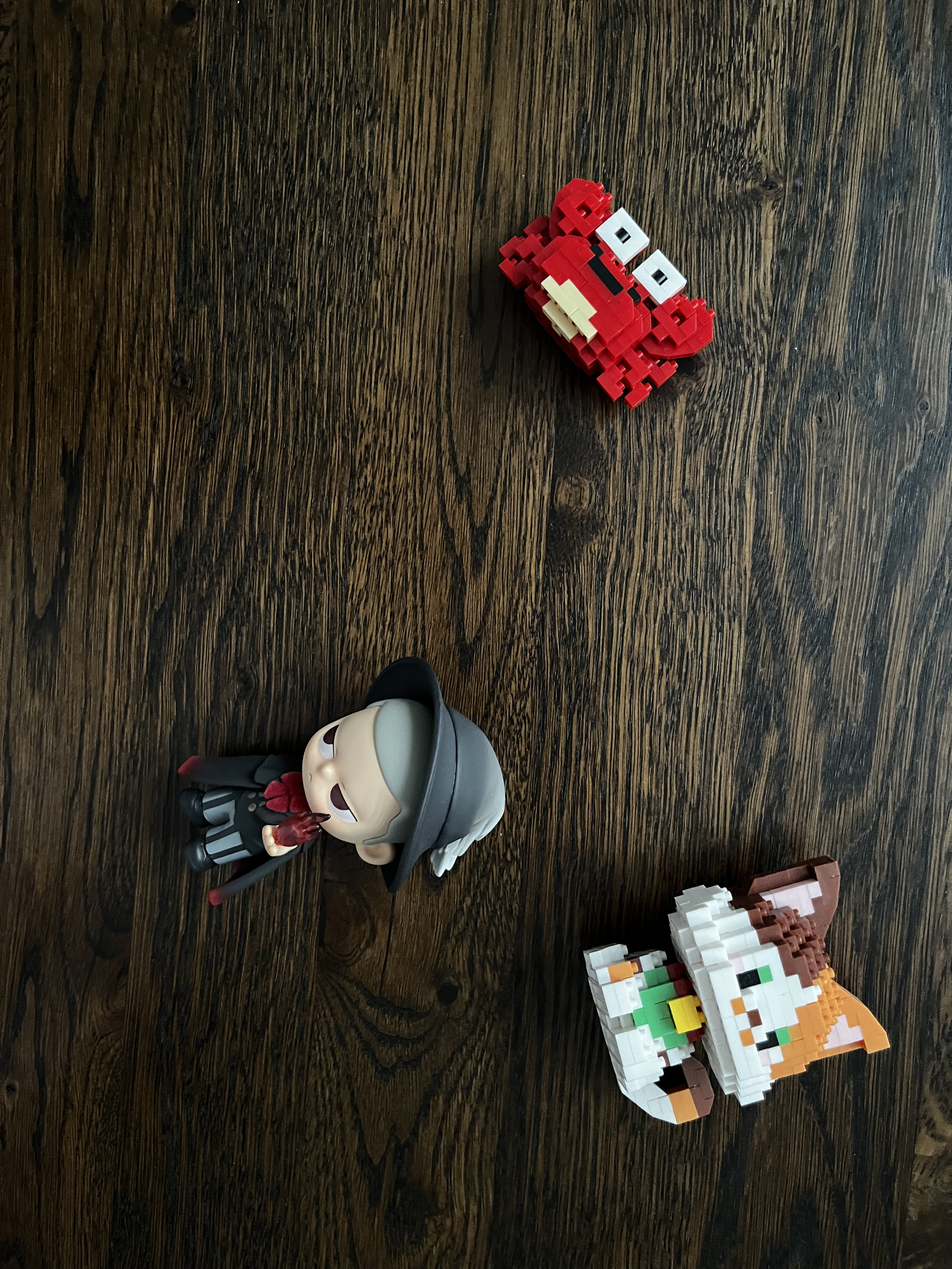cat: (573, 815, 899, 1146)
crab: (478, 173, 734, 409)
magician: (159, 645, 517, 937)
